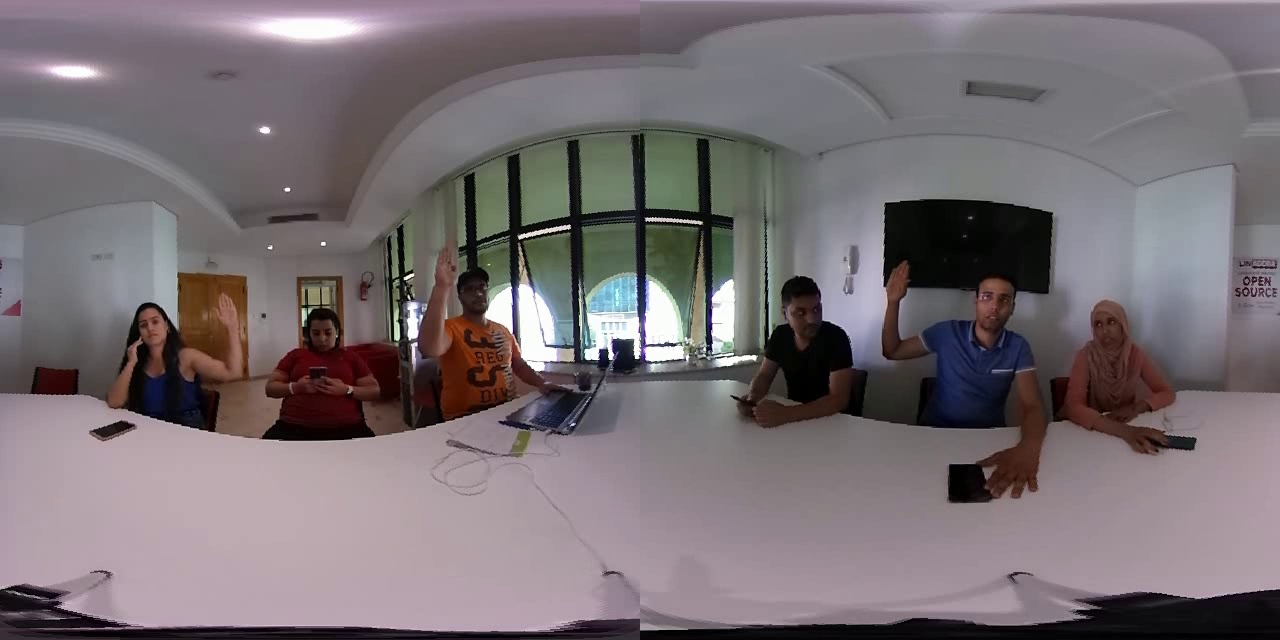person: (859, 233, 1057, 504), (399, 234, 576, 424), (107, 266, 261, 431), (1060, 289, 1199, 458), (726, 272, 855, 439), (262, 290, 382, 436)
voting: (873, 253, 947, 369), (184, 283, 256, 390), (410, 240, 467, 359)
